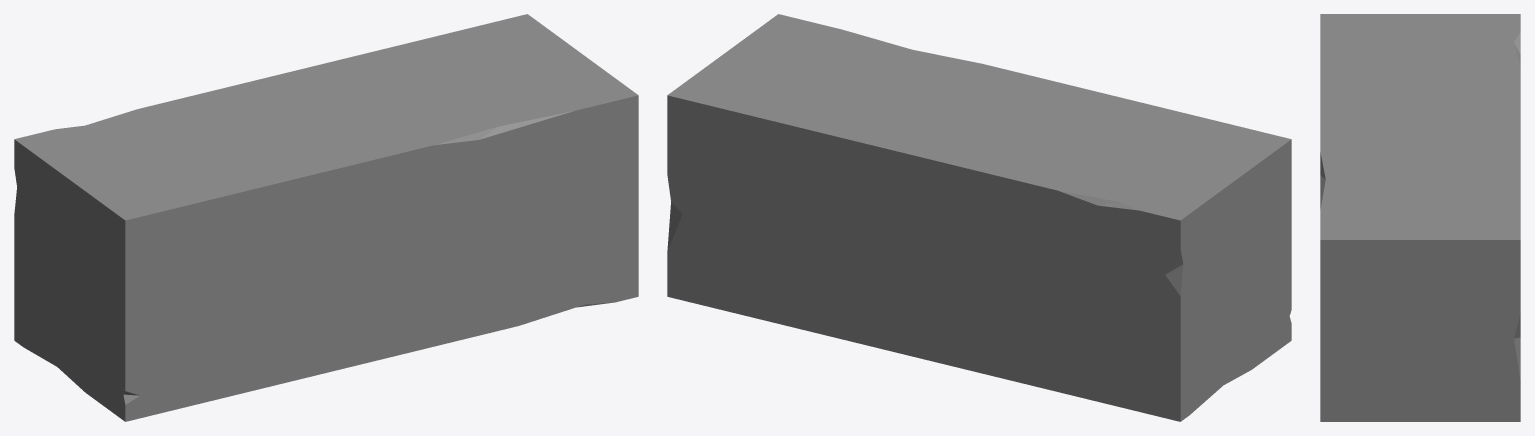
Rendered from SW_ENV_ConcreteBeam_1m.fbx.
3 renders of one model, left to right at view 1: azimuth 30°, elevation 25°; view 2: azimuth 150°, elevation 25°; view 3: azimuth 270°, elevation 25°, orthographic. The views are drawn at different scales.
Parts seen in each view (by area): view 1: SW_ENV_ConcreteBeam_1m; view 2: SW_ENV_ConcreteBeam_1m; view 3: SW_ENV_ConcreteBeam_1m.
Part boxes in pixels (left/top/right/bottom): SW_ENV_ConcreteBeam_1m: left=14, top=14, right=638, bottom=421; SW_ENV_ConcreteBeam_1m: left=667, top=14, right=1291, bottom=421; SW_ENV_ConcreteBeam_1m: left=1320, top=14, right=1520, bottom=421.
Bounding box in the file's own units: 100 × 37.5 × 37.5.
